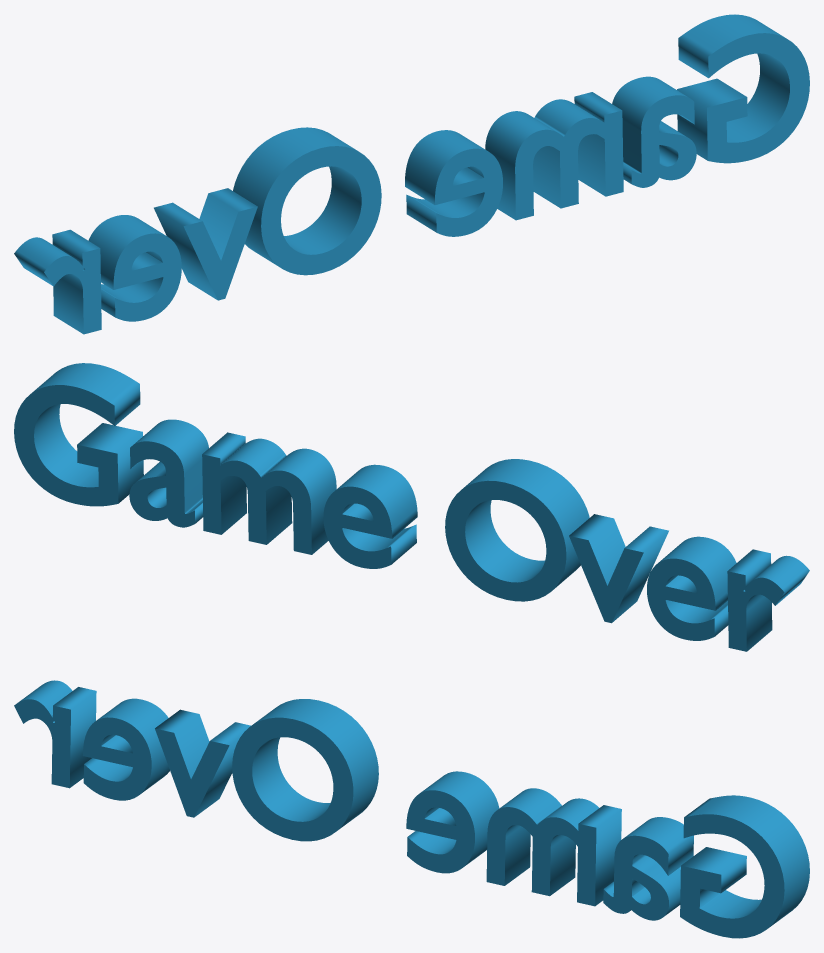
The model's file is gameOverText.obj.
3 views of the same model, one above another, from view 1: azimuth 30°, elevation 25°; view 2: azimuth 150°, elevation 25°; view 3: azimuth 330°, elevation 25° (orthographic). The views are drawn at different scales.
Parts seen in each view (by area): view 1: テキスト.001; view 2: テキスト.001; view 3: テキスト.001.
Part boxes in pixels (x1,y1,x2,y2): テキスト.001: (14, 14, 809, 334); テキスト.001: (14, 363, 809, 651); テキスト.001: (14, 680, 809, 938).
Size of the model in its own units: 4.82 by 0.7361 by 0.4825.
